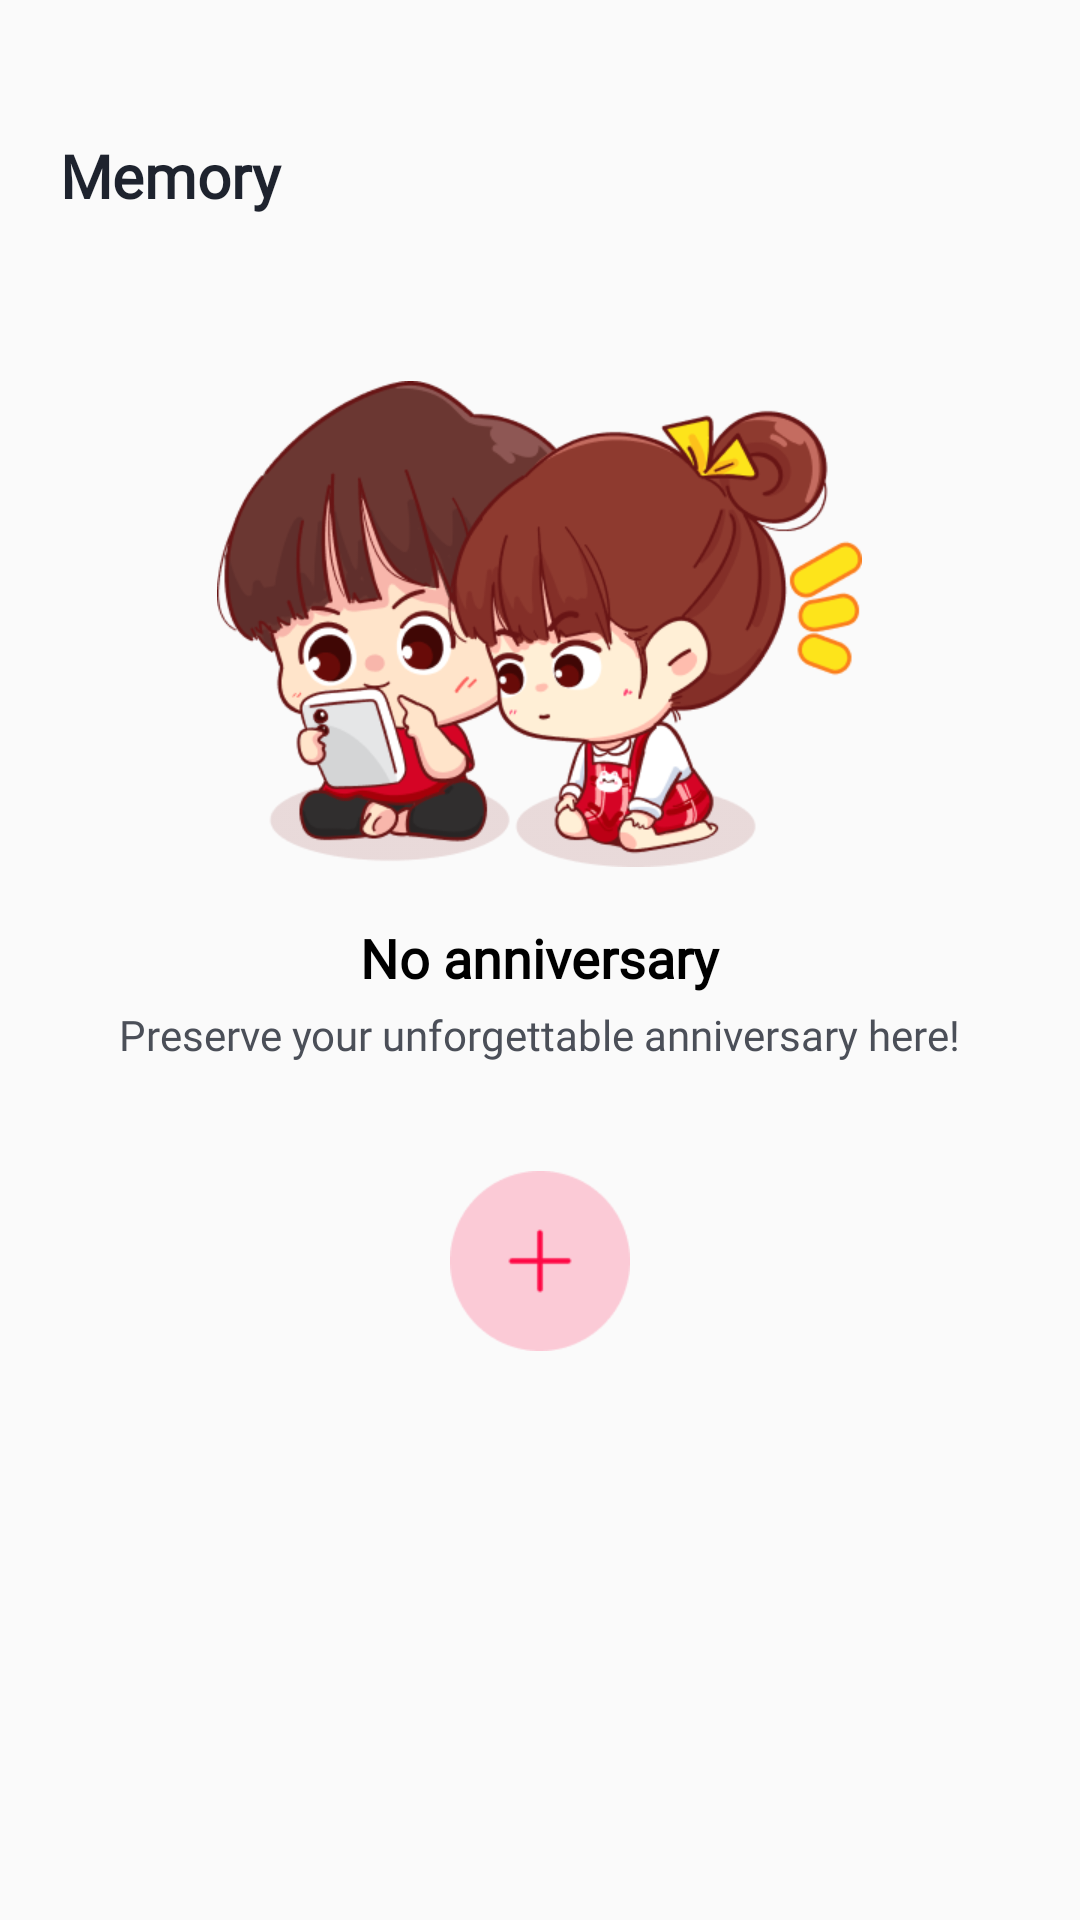

Named icons in this screenshot (1080w x 1920h) and their bounding boxes, (x1, y1, x2, y2):
add: (450, 1171, 630, 1351)
